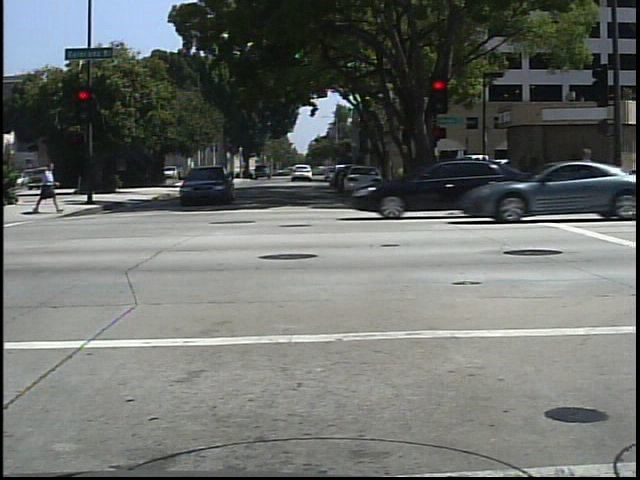person: (572, 143, 603, 209), (36, 157, 59, 217)
